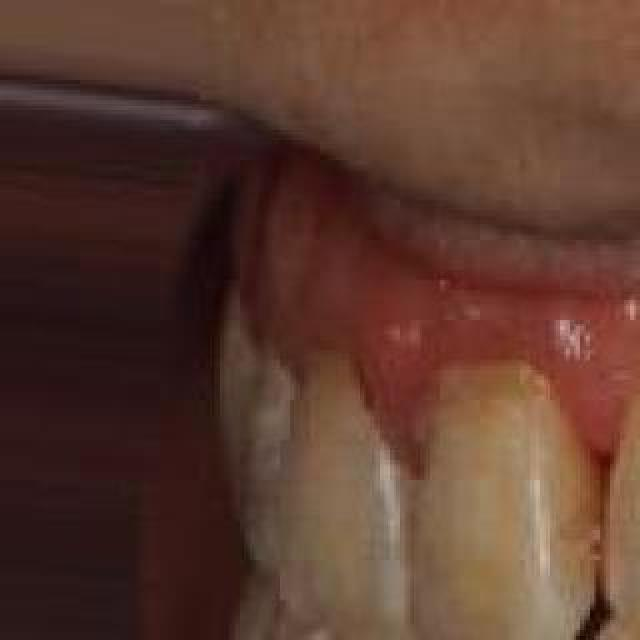spacing: (532, 612, 616, 640)
stains: (560, 460, 630, 596)
